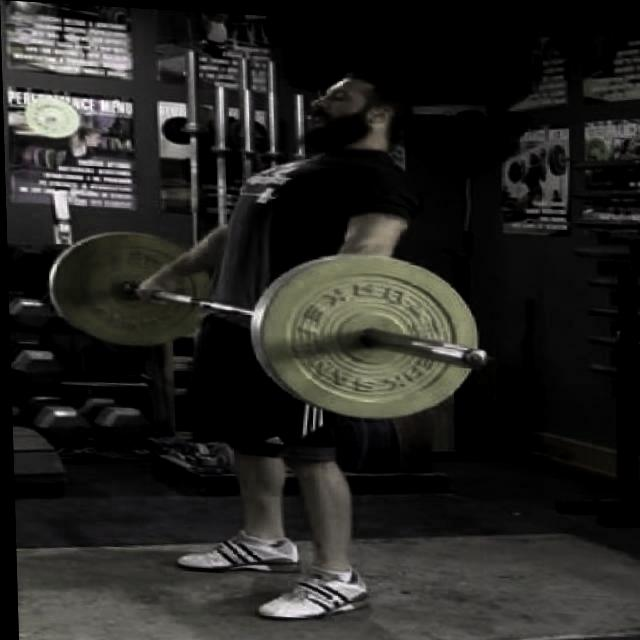barbell: (250, 240, 492, 427)
